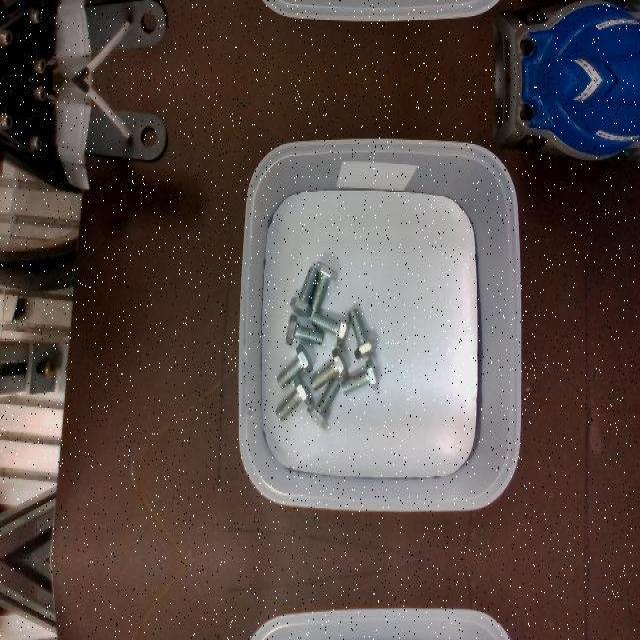screw: (306, 377, 340, 429), (275, 375, 312, 421), (276, 343, 312, 389), (310, 347, 348, 389), (309, 261, 338, 313), (348, 308, 377, 358), (290, 267, 319, 317), (312, 312, 351, 348), (340, 358, 378, 394), (285, 314, 323, 346)
